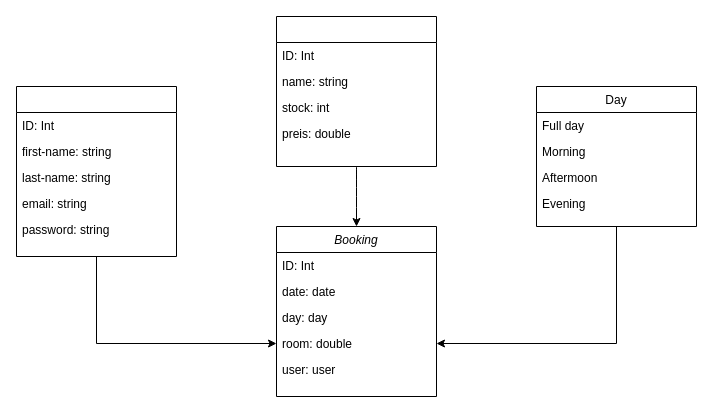
This 713x413 diagram has some shape labels left out. Here are the shapes that lost their labels. From the top down, the box of each, then its label:
(276, 16, 436, 166): Zimmer
(16, 86, 176, 256): User
